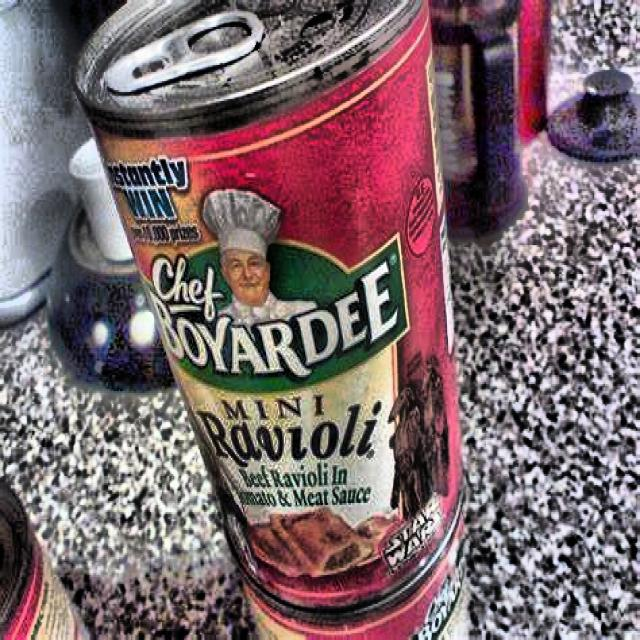Cans: (75, 0, 488, 633)
